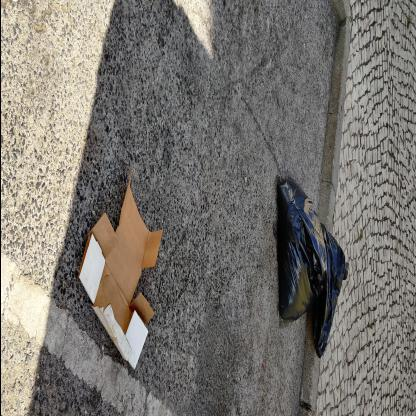karton: (78, 170, 164, 371)
plastik: (277, 175, 349, 359)
